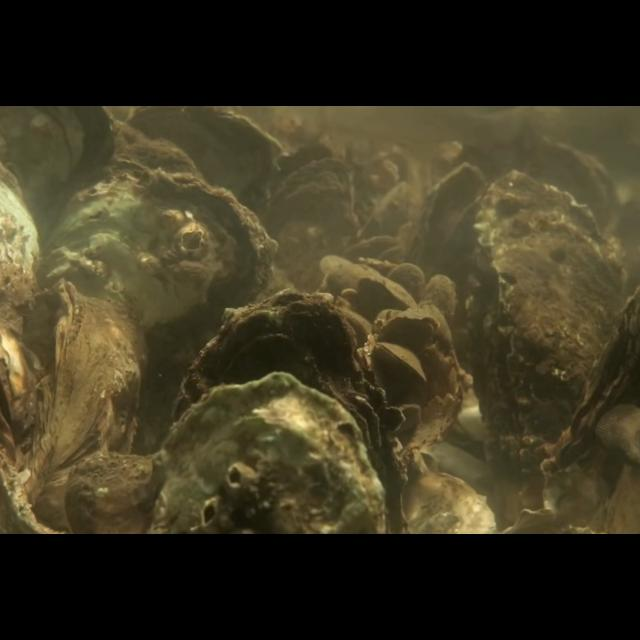Oyster-Closed: (45, 166, 279, 444), (173, 289, 404, 535), (146, 372, 384, 534), (28, 279, 146, 535), (408, 160, 489, 316), (358, 273, 418, 309), (387, 262, 427, 310), (383, 315, 441, 347), (424, 274, 456, 324)
Oyster-Open: (465, 170, 625, 466), (536, 282, 640, 502), (256, 141, 352, 283), (373, 342, 427, 384)
